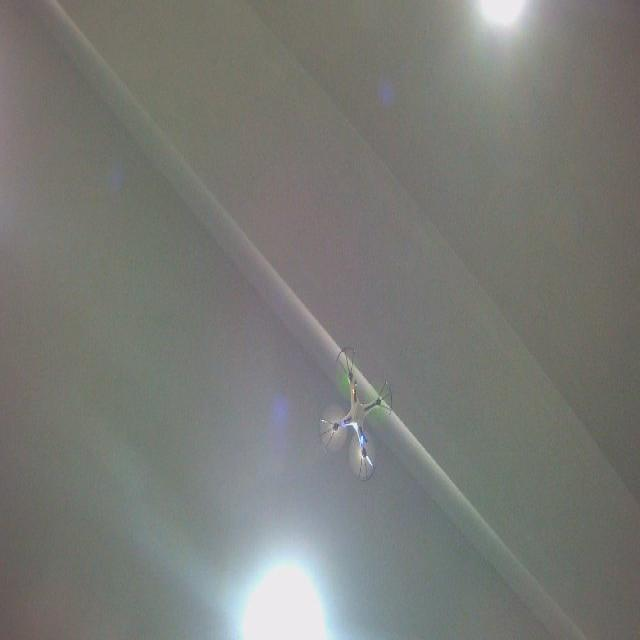drone: (316, 339, 396, 484)
